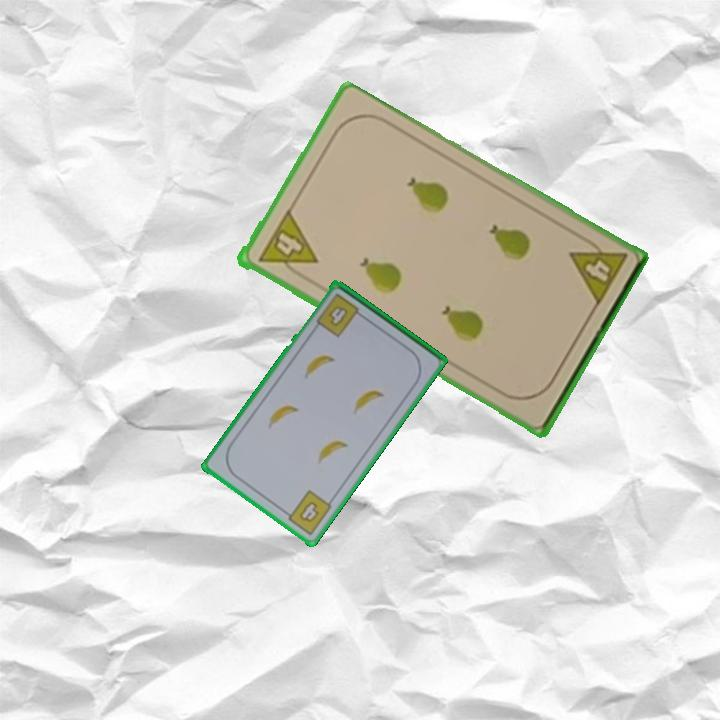4b: (279, 486, 335, 538), (325, 305, 349, 330)
4p: (565, 231, 630, 309), (253, 208, 320, 283)
